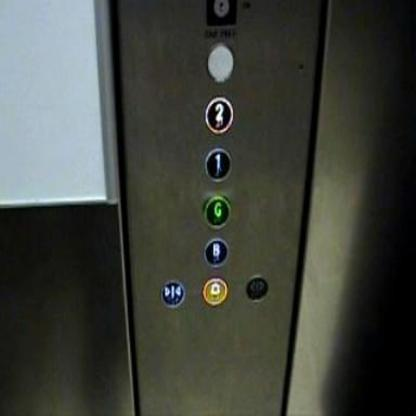1: (202, 146, 233, 182)
2: (203, 95, 234, 135)
B: (202, 235, 231, 269)
G: (202, 194, 233, 232)
alarm: (201, 275, 229, 306)
bt_keyhole: (204, 0, 240, 28)
close: (158, 278, 186, 310)
empty: (204, 43, 234, 84)
open: (243, 272, 269, 302)
